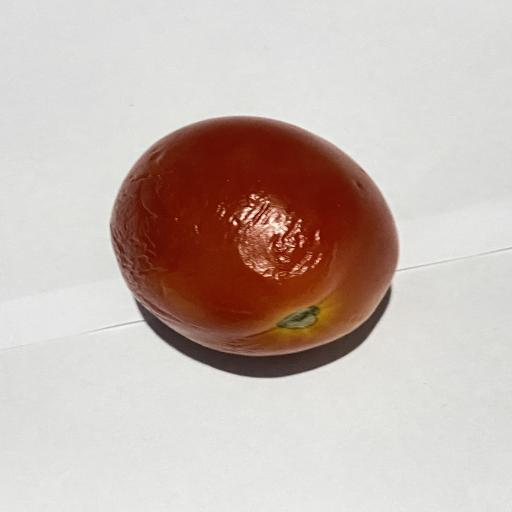spoiled: (111, 117, 398, 356)
